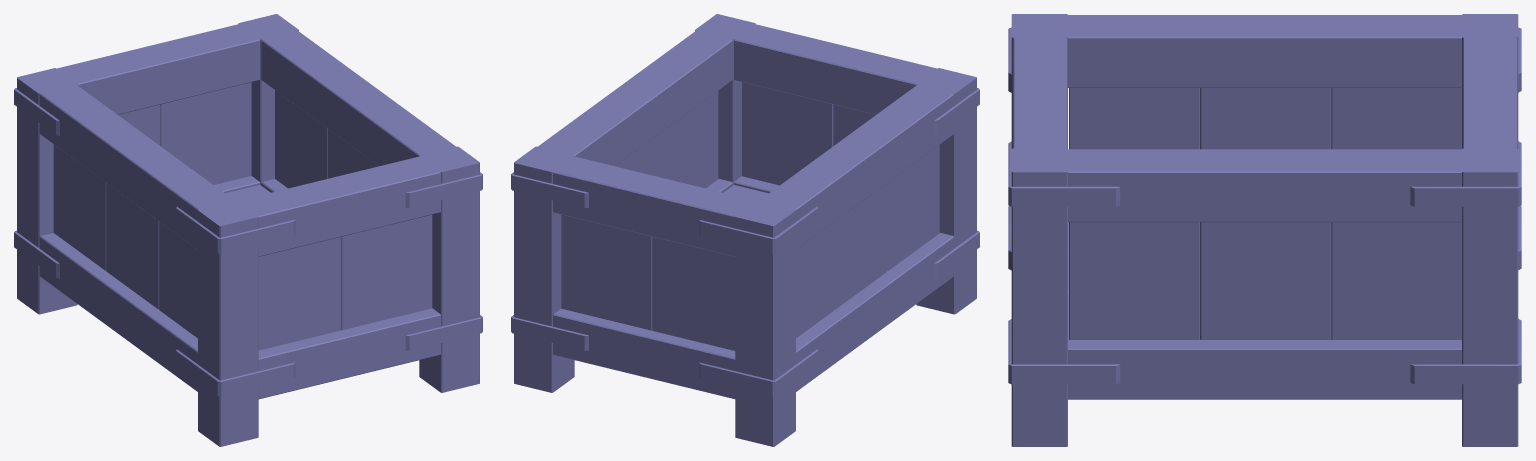
The model's file is Chest_1.fbx.
3 renders of one model, left to right at view 1: azimuth 30°, elevation 25°; view 2: azimuth 150°, elevation 25°; view 3: azimuth 270°, elevation 25°, orthographic. The views are drawn at different scales.
Parts seen in each view (by area): view 1: Box262; view 2: Box262; view 3: Box262.
Part boxes in pixels (left/top/right/bottom): Box262: left=14, top=14, right=482, bottom=446; Box262: left=511, top=14, right=979, bottom=446; Box262: left=1008, top=14, right=1521, bottom=446.
Size of the model in its own units: 67.65 by 53.84 by 91.13.
